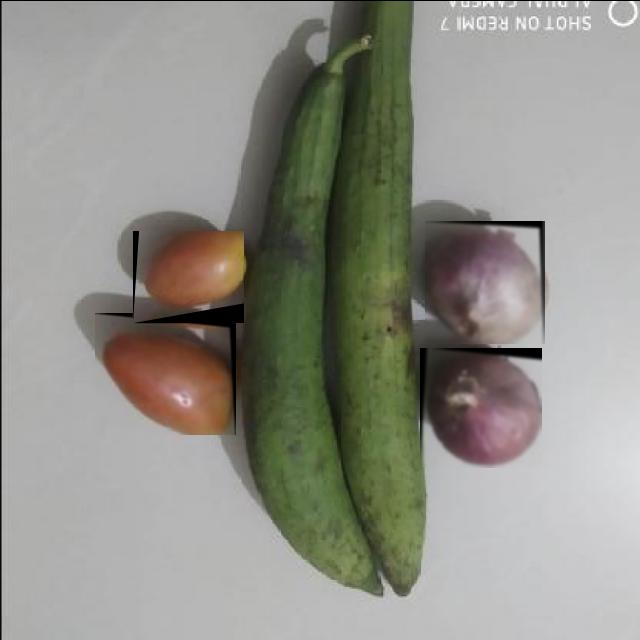onion: (426, 220, 546, 343), (420, 347, 542, 467)
tomato: (95, 312, 236, 434), (133, 230, 244, 322)
